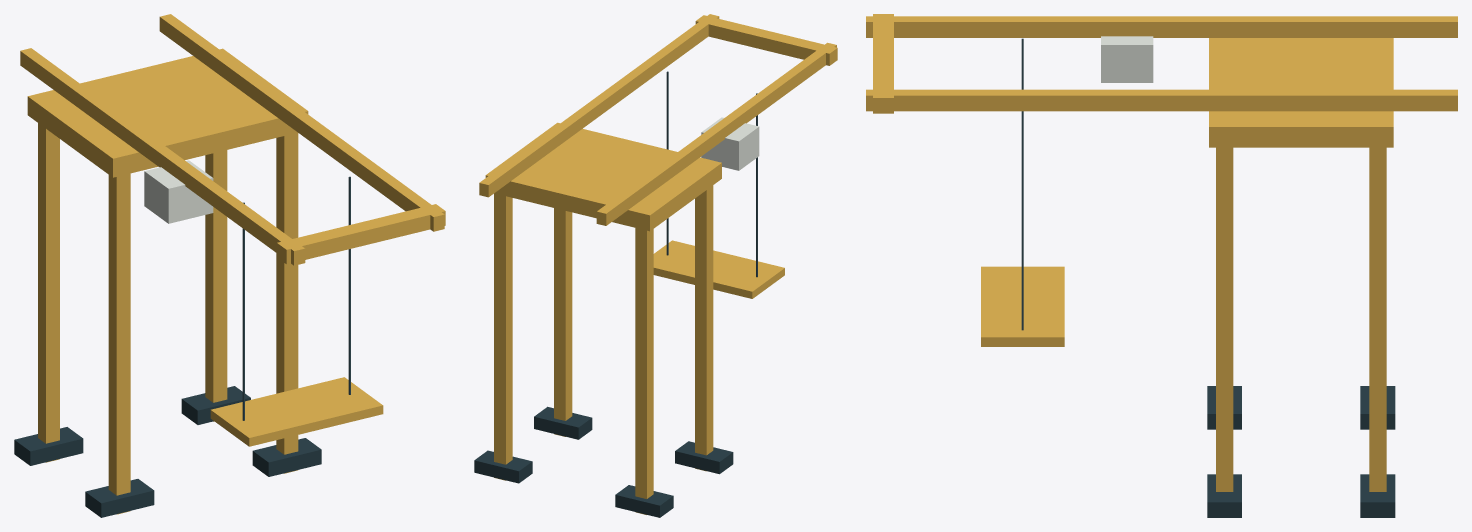
Rendered from gantry-crane.glb.
3 renders of one model, left to right at view 1: azimuth 30°, elevation 25°; view 2: azimuth 150°, elevation 25°; view 3: azimuth 270°, elevation 25°, orthographic. The views are drawn at different scales.
Parts seen in each view (by area): view 1: gantry-crane (×16); view 2: gantry-crane (×14); view 3: gantry-crane (×12).
Boxes of the visible parts, x1,y1,x2,y2 form: gantry-crane (×16): (14,14,445,517); gantry-crane (×14): (474,14,837,517); gantry-crane (×12): (866,14,1457,517).
Bounding box in the file's own units: 7.9 × 12.95 × 17.
